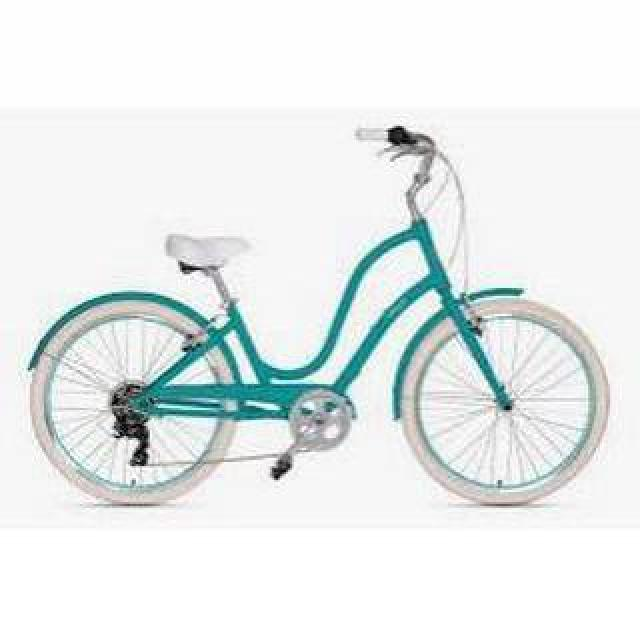Person: (29, 128, 615, 500)
